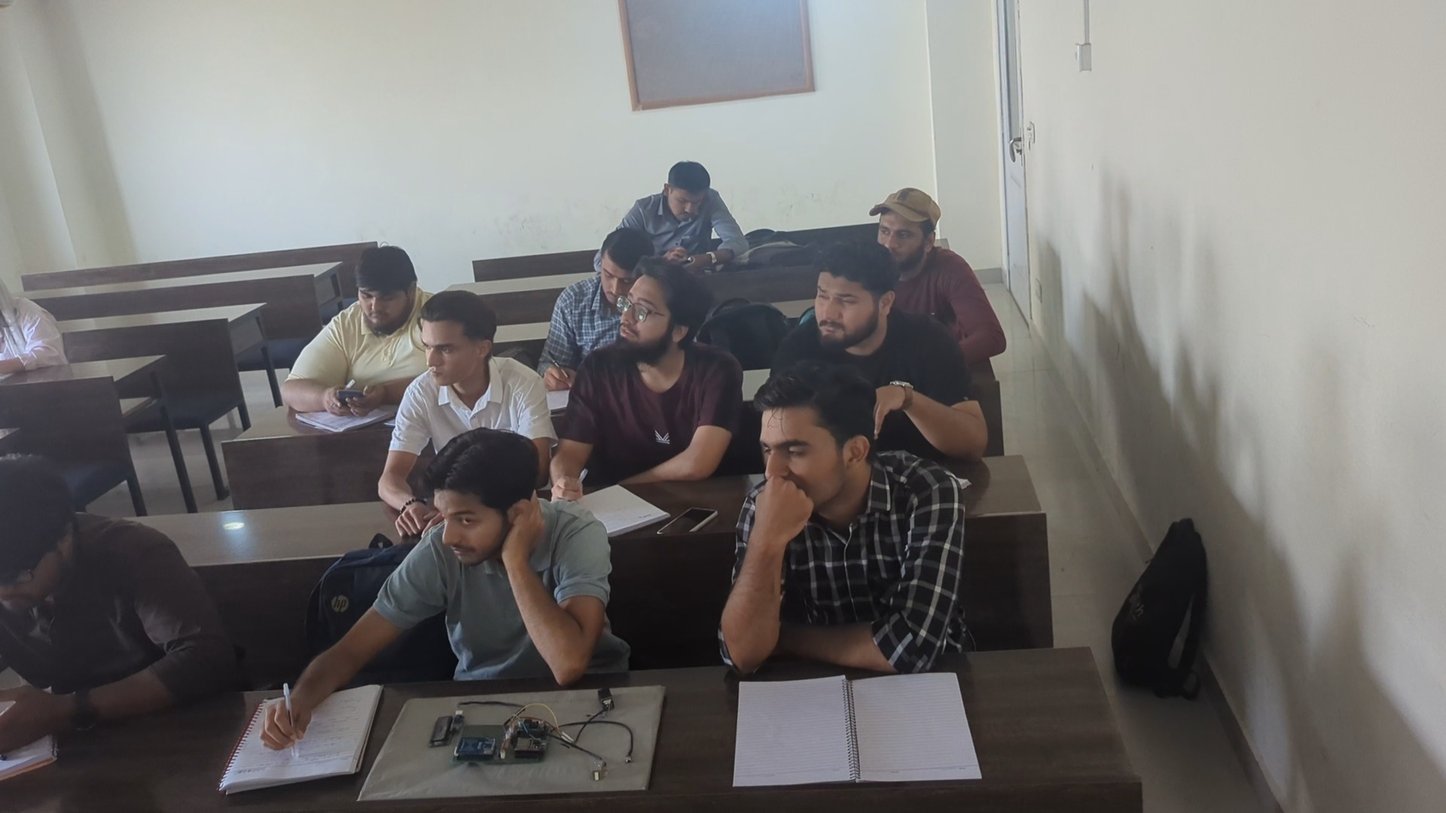look_forward: (717, 369, 969, 677), (408, 426, 630, 679), (791, 245, 991, 450), (572, 261, 741, 475), (394, 290, 553, 439), (867, 189, 1013, 347)
read: (2, 446, 225, 751), (0, 275, 72, 385)
using_device: (282, 251, 411, 414)
write: (608, 157, 753, 258), (536, 233, 605, 401)
